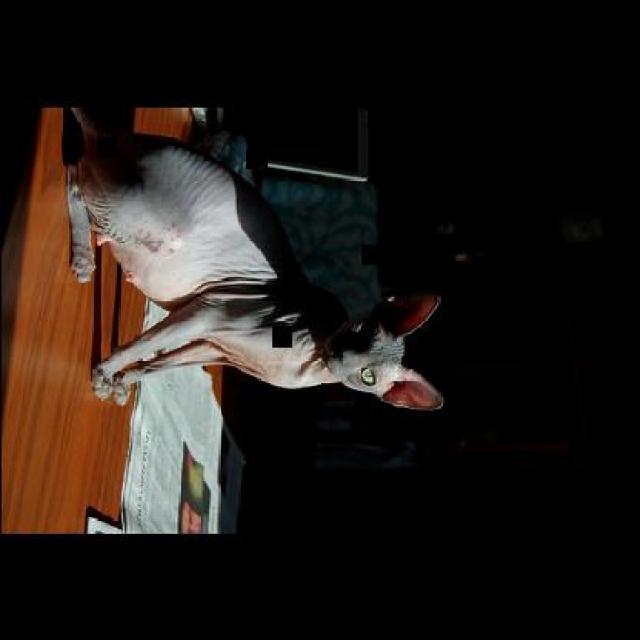unauthorized: (60, 104, 445, 413)
